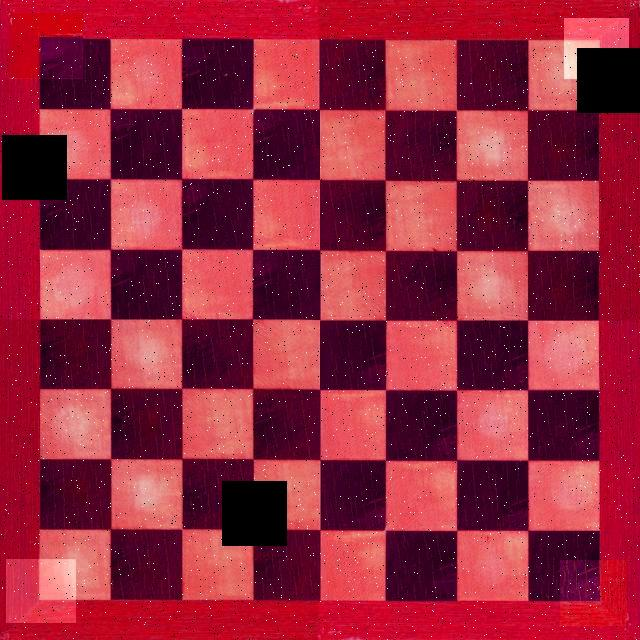chess-table-corners: (9, 14, 83, 80), (560, 560, 627, 626), (7, 559, 76, 623), (564, 18, 629, 79)
